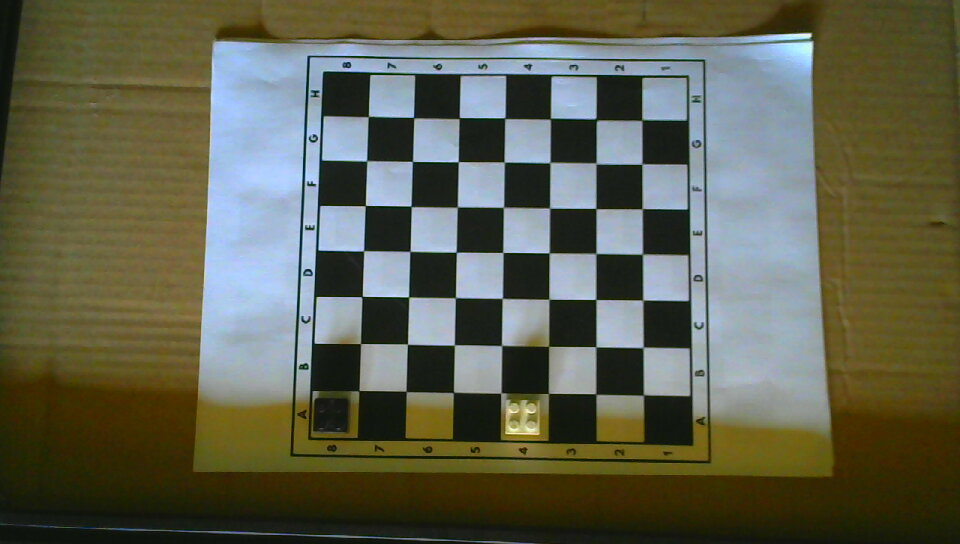bp: (313, 397, 350, 435)
wp: (504, 397, 541, 437)
